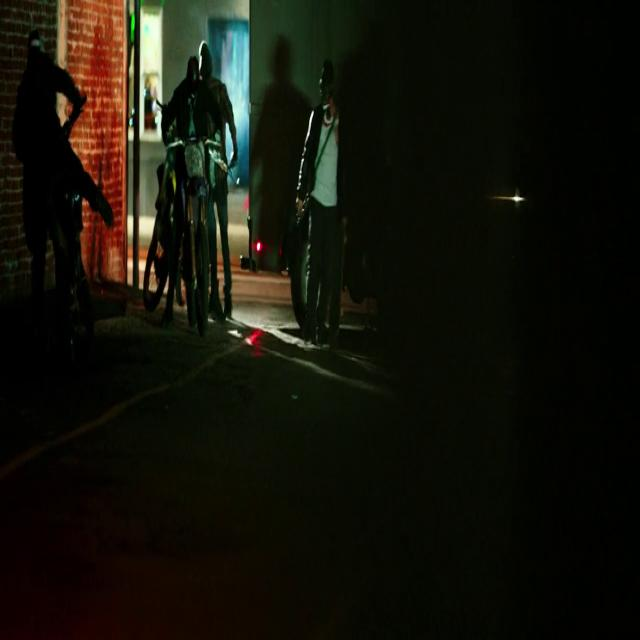Motorbike: (140, 95, 236, 373)
